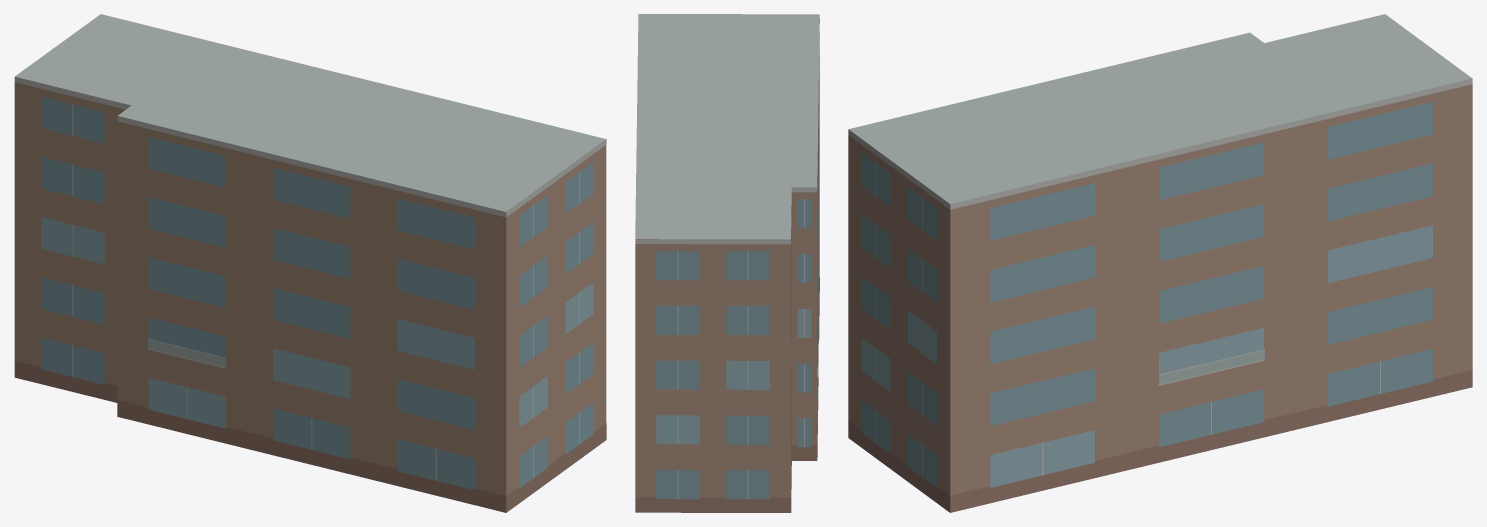
The model's file is survey-upis-32696185.glb.
3 views of the same model, side by side, from view 1: azimuth 30°, elevation 25°; view 2: azimuth 150°, elevation 25°; view 3: azimuth 270°, elevation 25° (orthographic). The views are drawn at different scales.
Visible parts, largest first — view 1: survey-upis-32696185.tmp; view 2: survey-upis-32696185.tmp; view 3: survey-upis-32696185.tmp.
Part boxes in pixels (<box>): survey-upis-32696185.tmp: <box>14,14,606,512</box>; survey-upis-32696185.tmp: <box>635,14,819,512</box>; survey-upis-32696185.tmp: <box>848,14,1472,512</box>.
Bounding box in the file's own units: 17.71 × 13.4 × 24.56.
